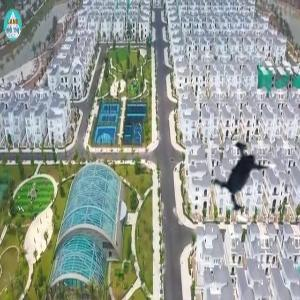drone: (194, 125, 298, 229)
